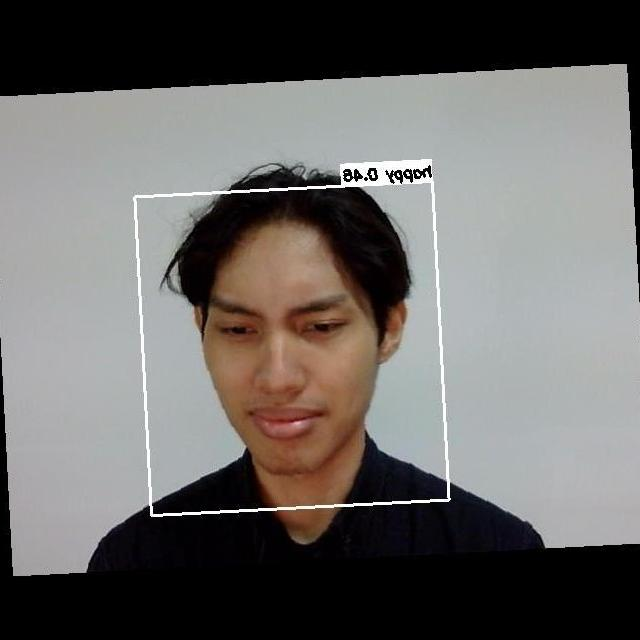Disgust: (189, 260, 385, 456)
